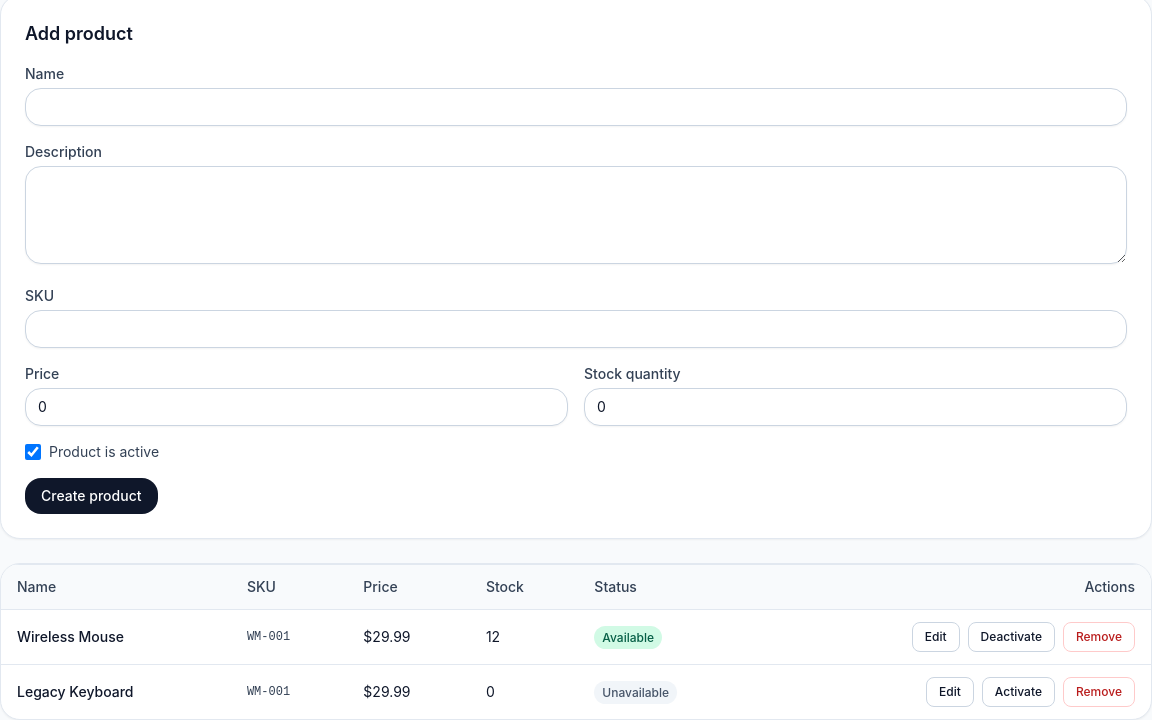
it: AdminProductsPage › loads selected product into the edit form
(page scrolled)
Click the button "Edit" in the row of "Wireless Mouse": {"x": 936, "y": 637} top-left (912, 622), bottom-right (960, 652)
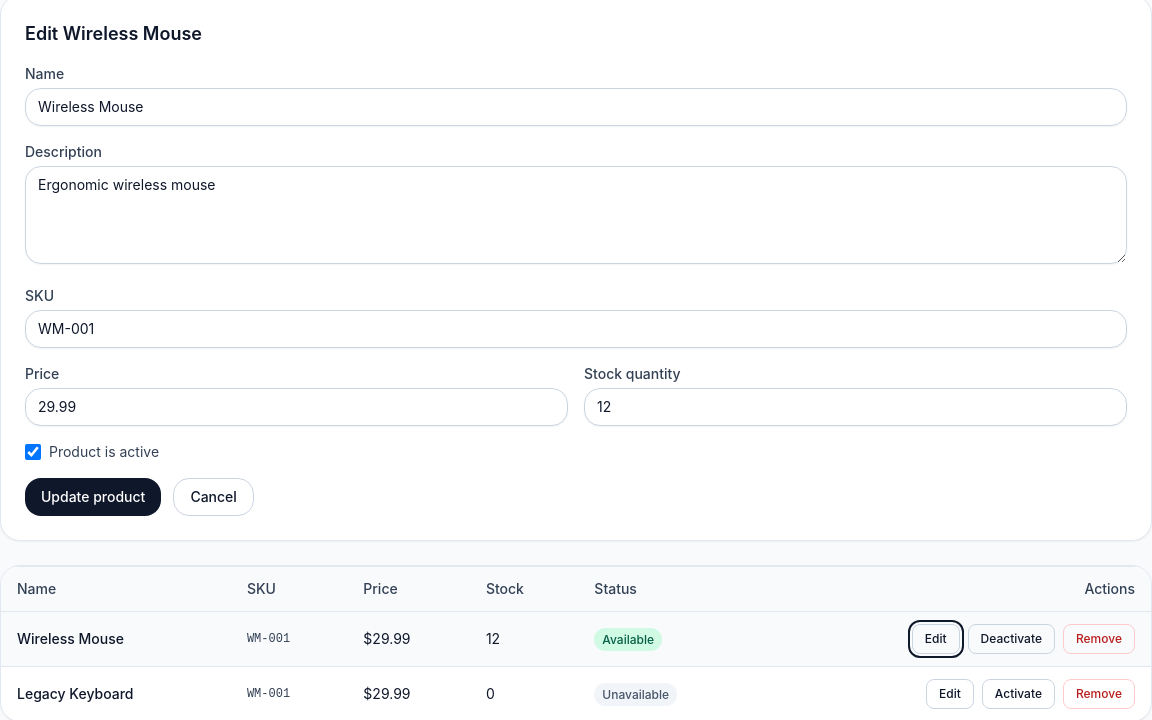
Expected: the field showing "Wireless Mouse" is shown, top-left (25, 88), bottom-right (1127, 126)
Expected: the field showing "WM-001" is shown, top-left (25, 310), bottom-right (1127, 348)
Expected: the button "Update product" is shown, top-left (25, 478), bottom-right (161, 516)
